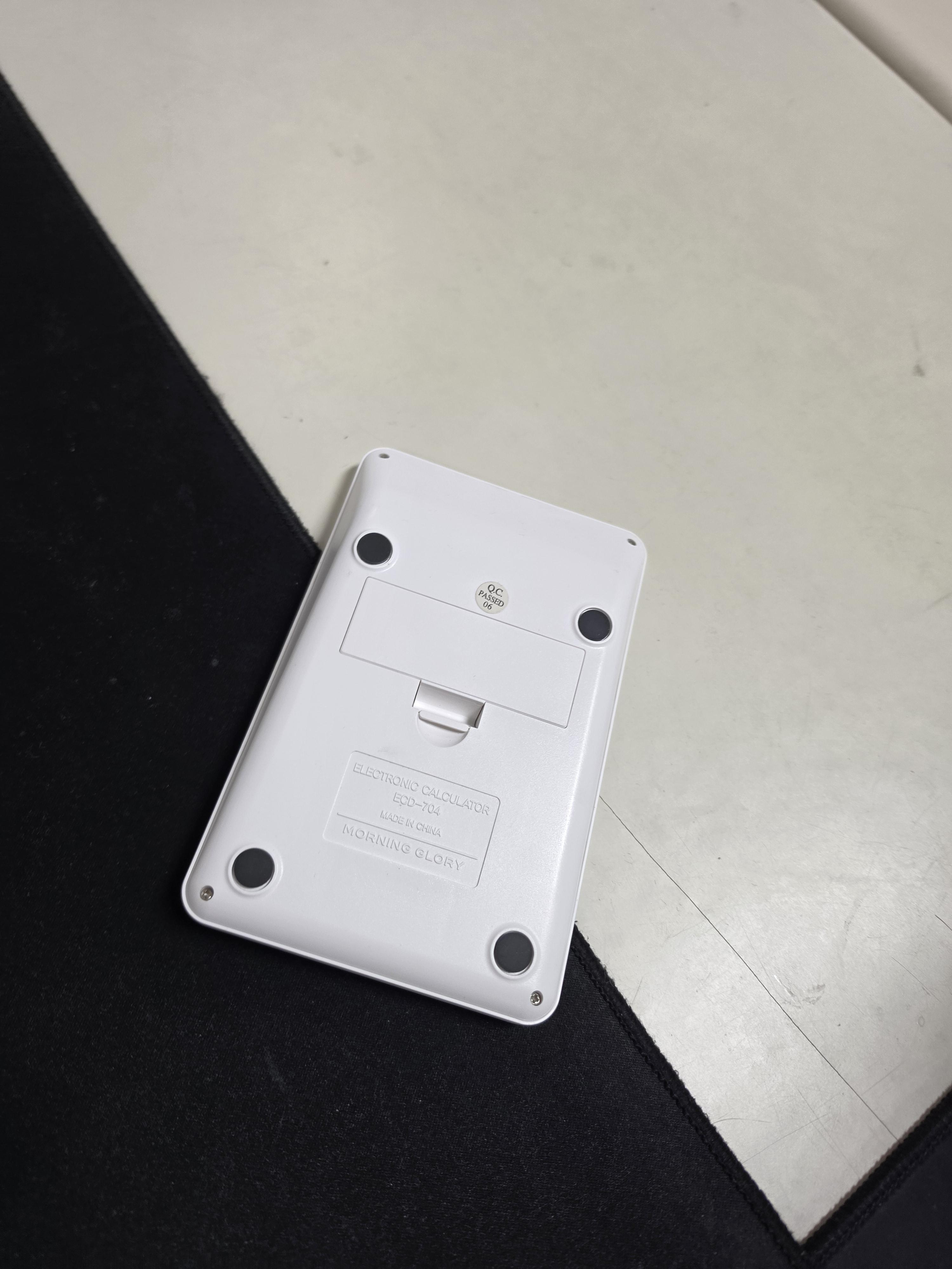calculator: (180, 447, 648, 1026)
